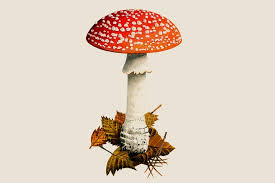Amanita muscaria: (75, 5, 191, 153)
